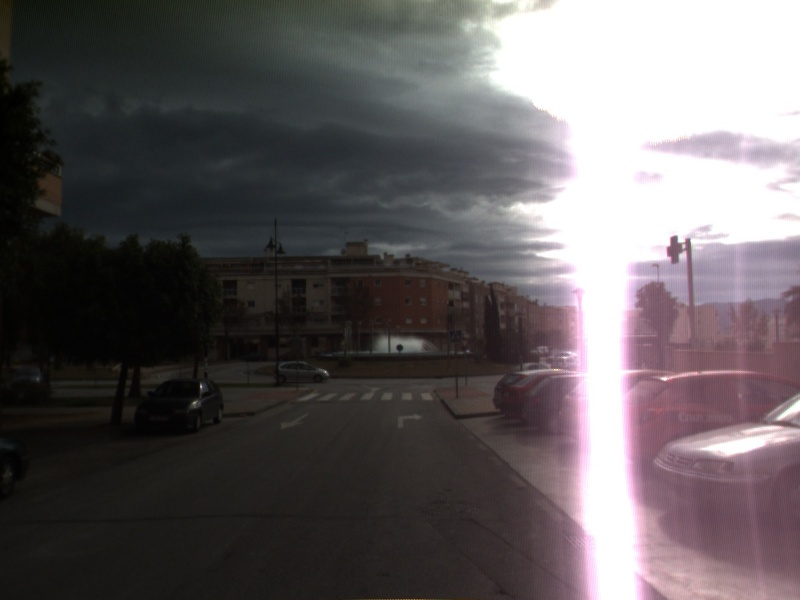RIGHT: (395, 411, 425, 430)
